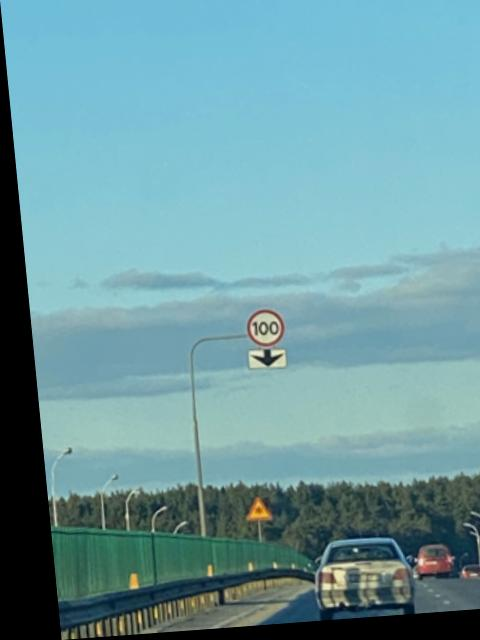limit100: (239, 309, 283, 354)
